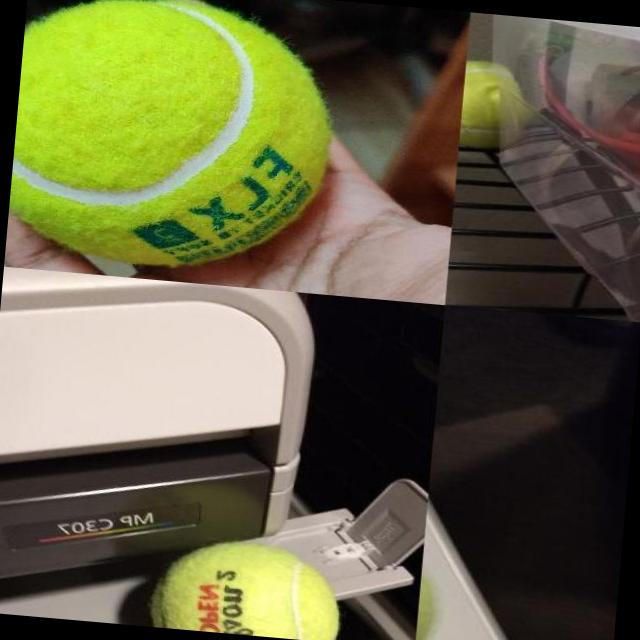Tennis Ball: (5, 0, 339, 277), (146, 533, 347, 640), (460, 58, 494, 149)
